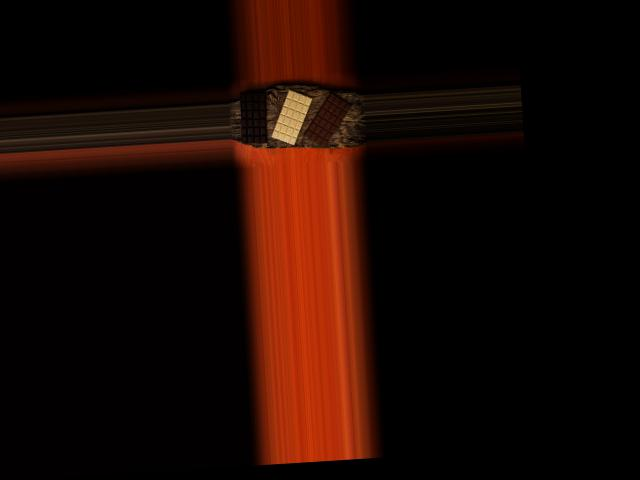chocolate: (237, 90, 268, 144)
